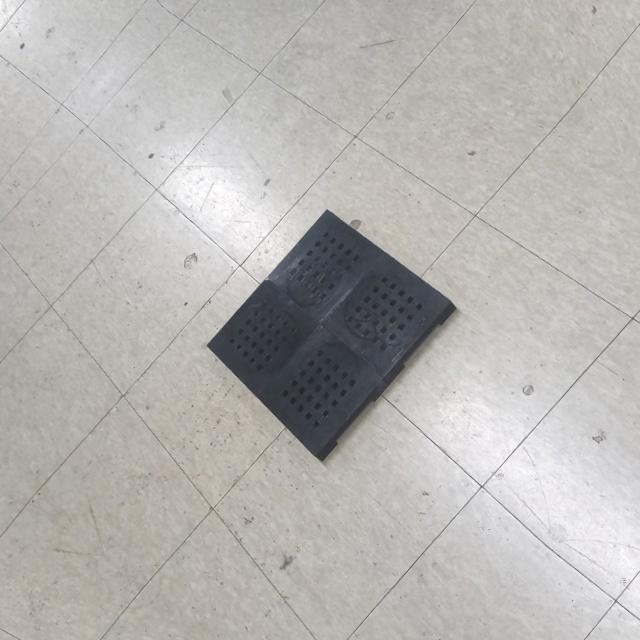pallet: (191, 190, 470, 473)
